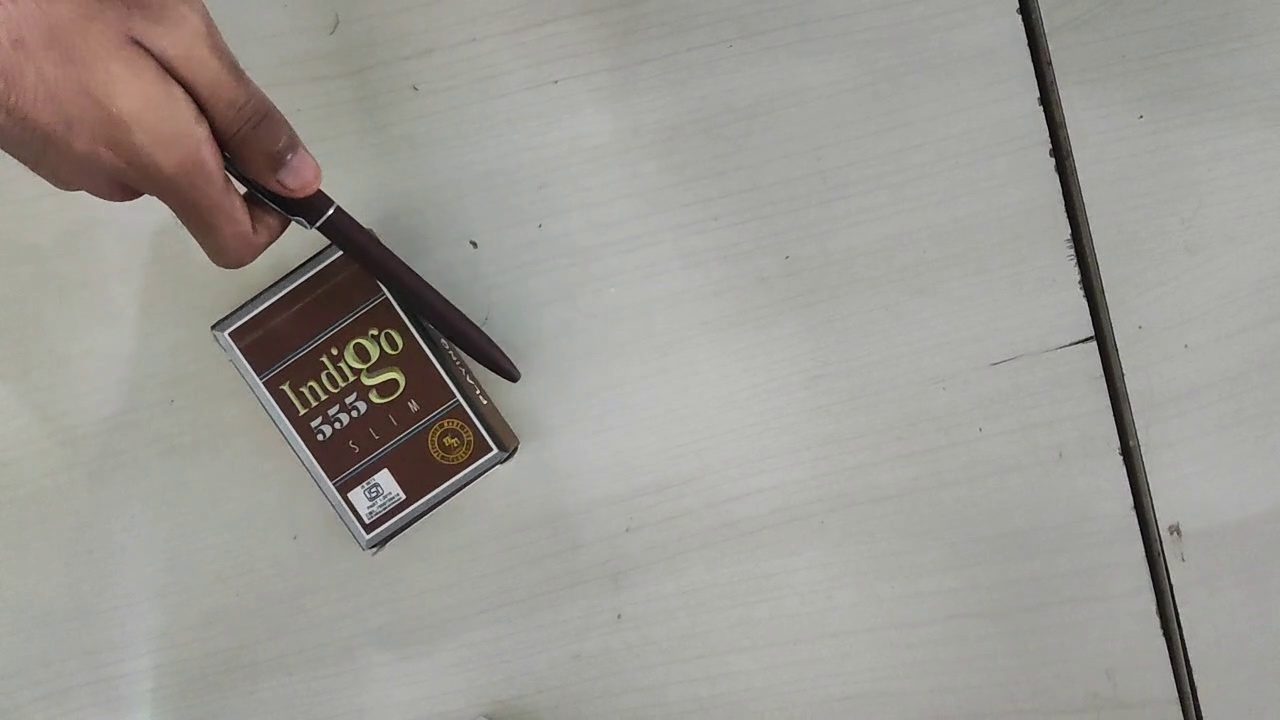BEX: (226, 245, 495, 538)
